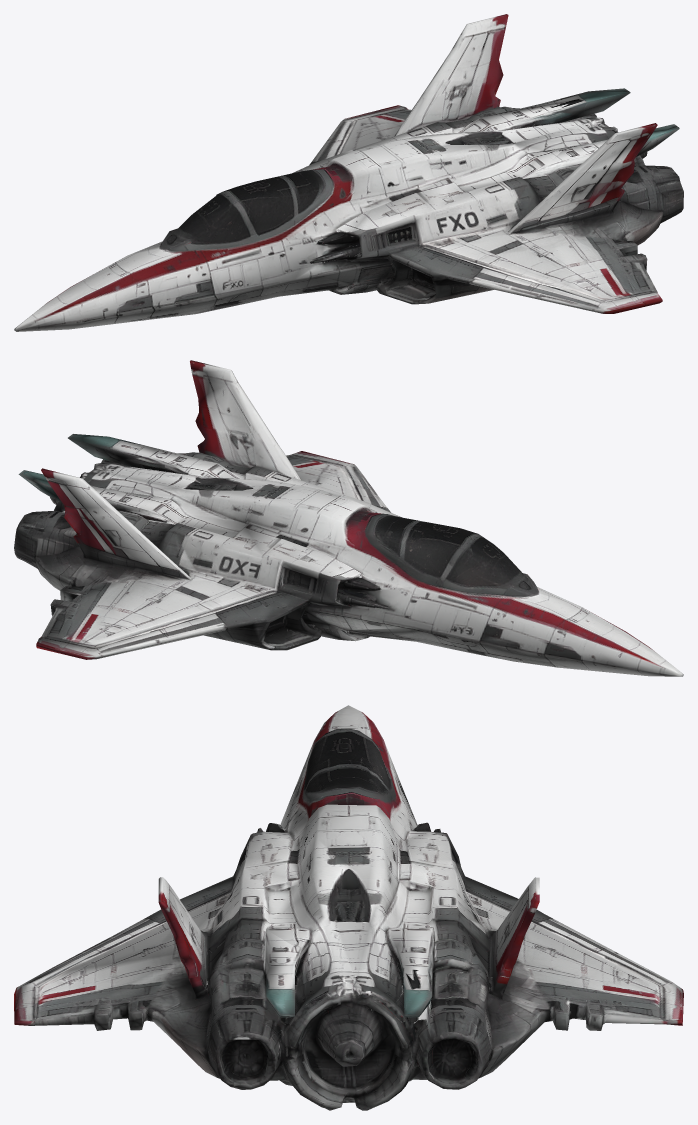
The model's file is spaceship_fighter_simplify50.glb.
3 views of the same model, one above another, from view 1: azimuth 30°, elevation 25°; view 2: azimuth 150°, elevation 25°; view 3: azimuth 270°, elevation 25° (orthographic). The views are drawn at different scales.
Visible parts, largest first — view 1: Mesh1.0_Material.001_0; view 2: Mesh1.0_Material.001_0; view 3: Mesh1.0_Material.001_0.
Boxes of the visible parts, x1,y1,x2,y2 form: Mesh1.0_Material.001_0: (14, 14, 683, 331); Mesh1.0_Material.001_0: (14, 360, 683, 676); Mesh1.0_Material.001_0: (14, 705, 683, 1110).
Size of the model in its own units: 1.91 by 0.4472 by 1.38.
Materials: 1 (1 with a texture image).
